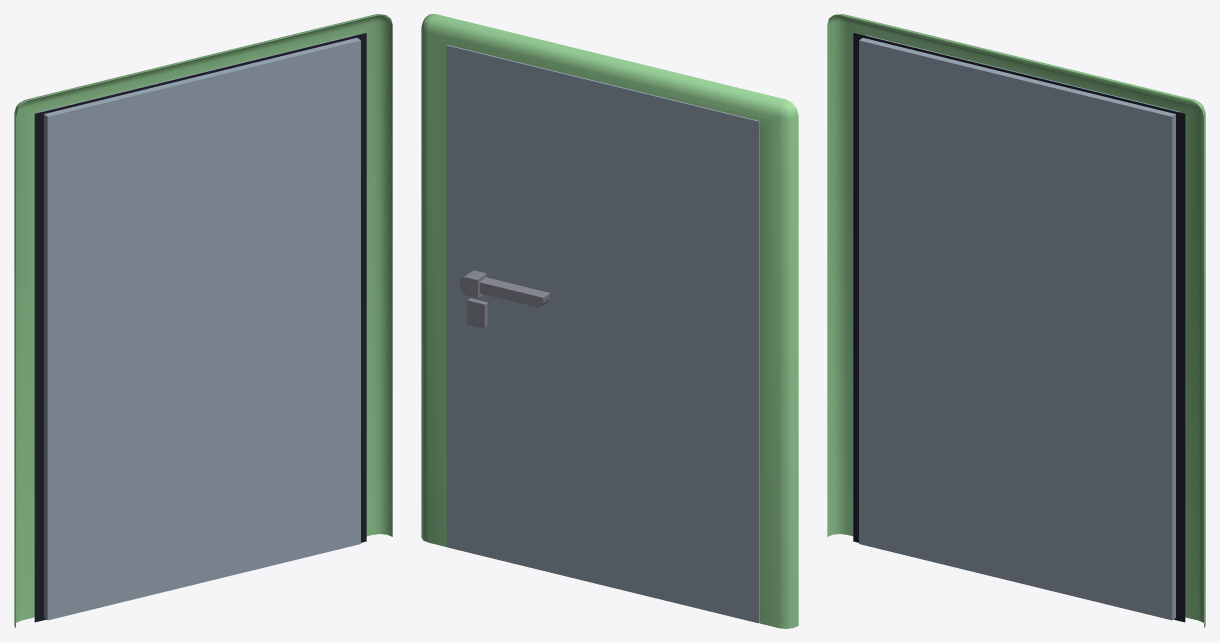
File: Marco.fbx
3 views of the same model, side by side, from view 1: azimuth 30°, elevation 25°; view 2: azimuth 150°, elevation 25°; view 3: azimuth 330°, elevation 25° (orthographic).
Parts seen in each view (by area): view 1: puerta, Marco; view 2: puerta, Marco; view 3: puerta, Marco.
Part boxes in pixels (x1=…): puerta: x1=41, y1=35, x2=360, y2=620; Marco: x1=14, y1=14, x2=392, y2=627; puerta: x1=446, y1=45, x2=759, y2=623; Marco: x1=421, y1=14, x2=798, y2=628; puerta: x1=859, y1=35, x2=1178, y2=620; Marco: x1=827, y1=14, x2=1205, y2=627.
Bounding box in the file's own units: 300 × 401 × 23.66.
